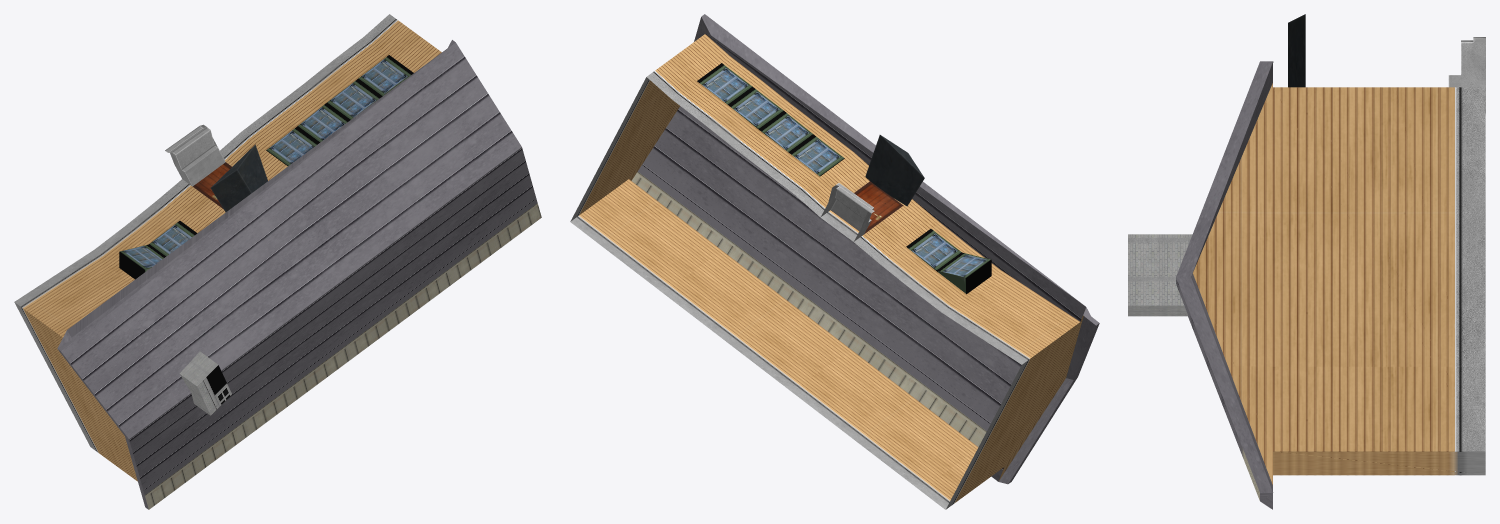
The model's file is 103_Toompuiestee_16_korvalhoone3-origo.obj.
The picture shows the model from 3 angles, left to right: view 1: azimuth 30°, elevation 25°; view 2: azimuth 150°, elevation 25°; view 3: azimuth 270°, elevation 25°; orthographic projection. The views are drawn at different scales.
Visible parts, largest first — view 1: house04; view 2: house04; view 3: house04.
Part boxes in pixels (<box>): house04: <box>14,14,541,509</box>; house04: <box>570,14,1099,509</box>; house04: <box>1128,14,1485,509</box>.
Bounding box in the file's own units: 15.38 × 12 × 5.47.
